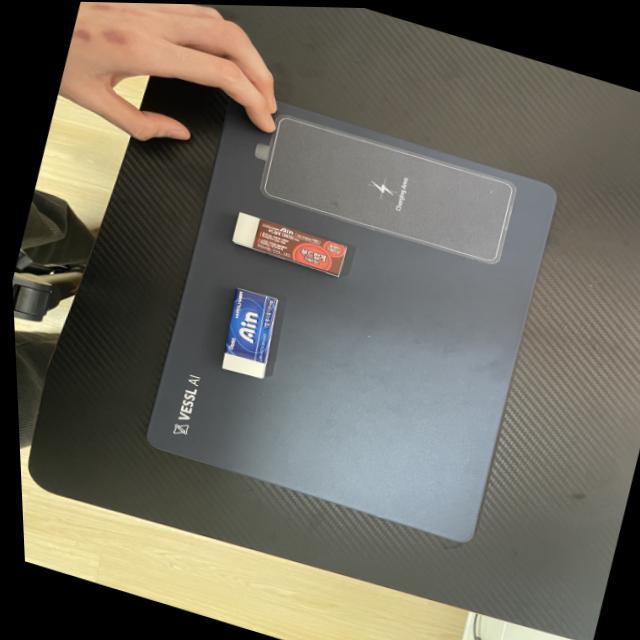blue: (200, 275, 289, 388)
red: (219, 203, 354, 283)
